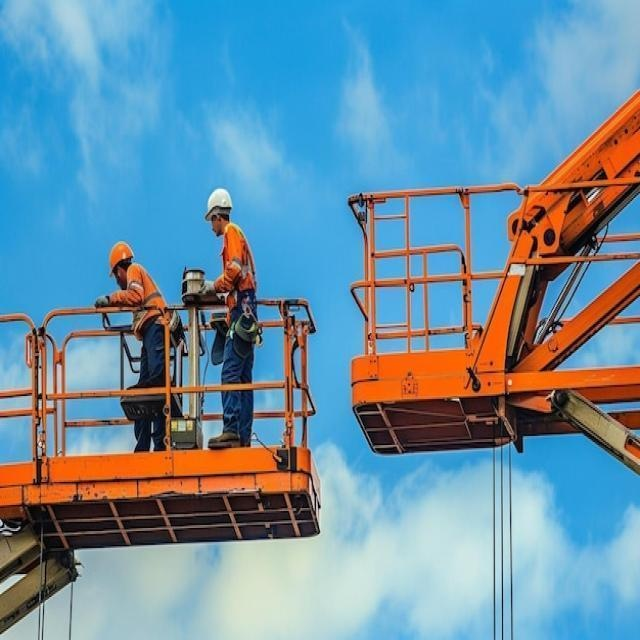Arnes_seguridad: (221, 226, 256, 360)
